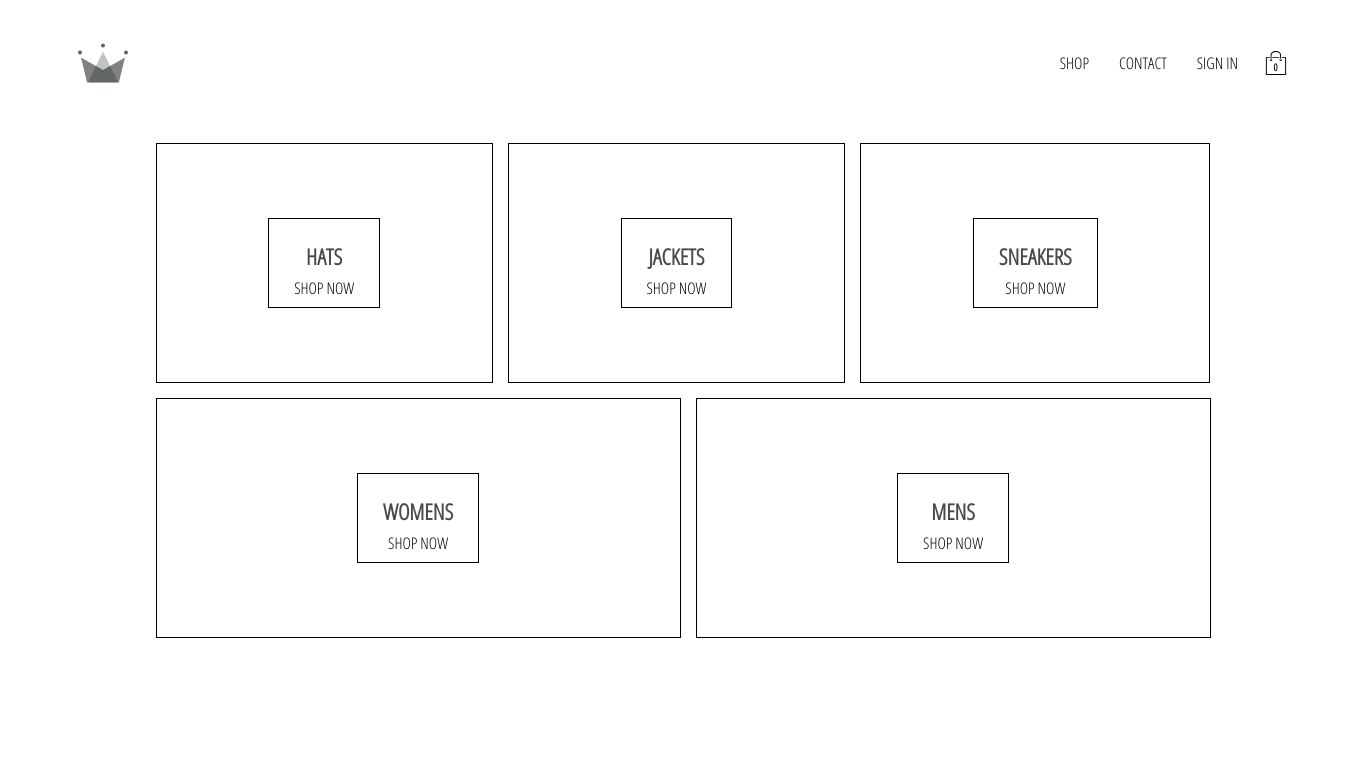
Dropdown Cart Items › droprown should be visible when the shopping icon is clicked
The width and height of the screenshot is (1366, 768).
Click the icon with class "cart-icon" at (1276, 63), box [1264,51,1288,75]
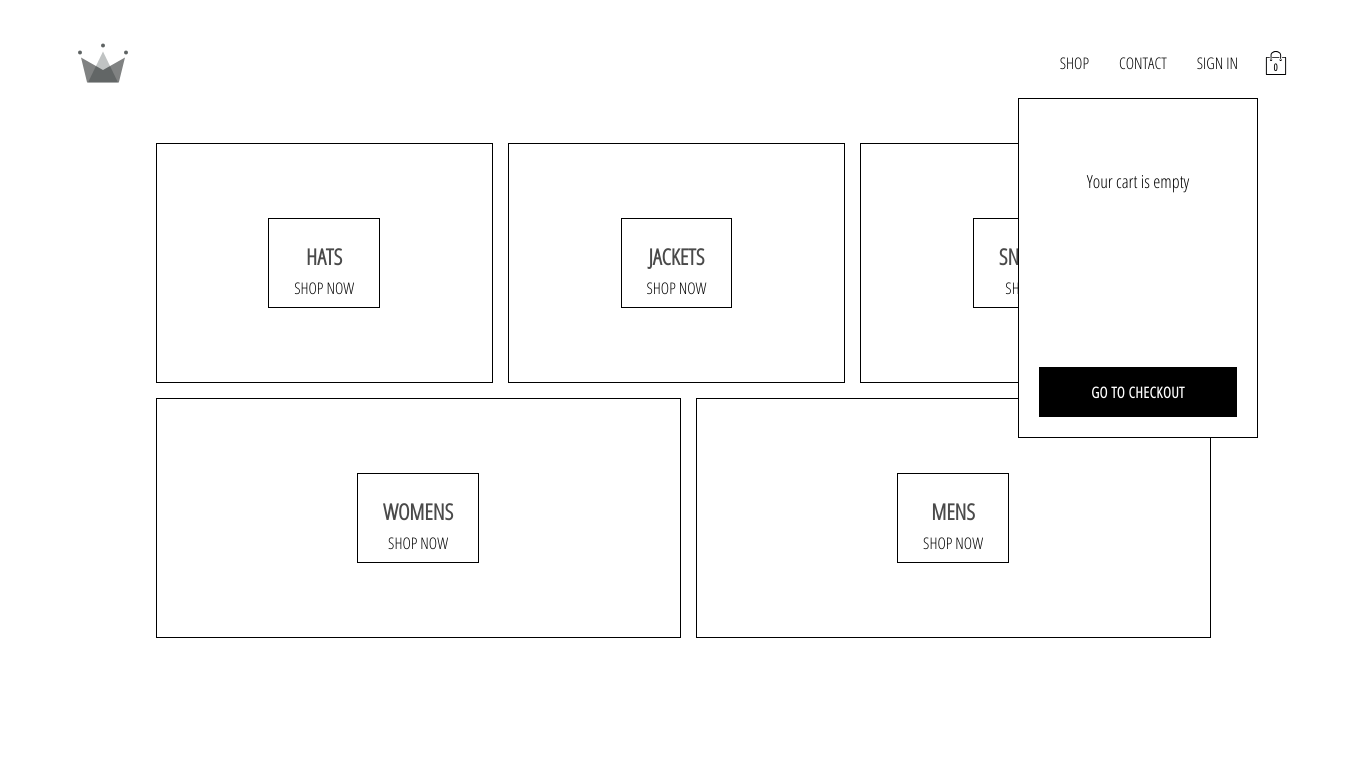
Expected: the element with class "cart-dropdown" is shown, [1018,98,1258,438]
